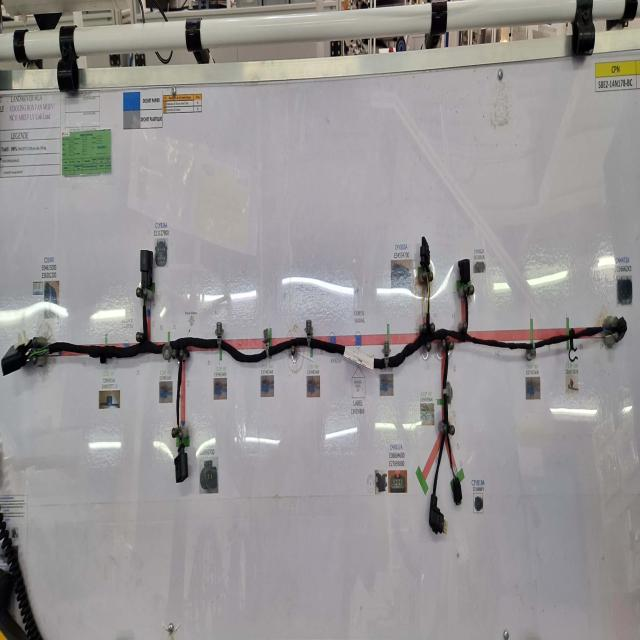Clip: (568, 328, 578, 364), (262, 328, 271, 360), (382, 338, 391, 368), (304, 319, 313, 348), (215, 323, 224, 349), (443, 380, 453, 402), (162, 341, 172, 362), (526, 342, 536, 360), (100, 345, 108, 366)
Connector: (1, 338, 32, 377), (428, 494, 448, 535), (174, 443, 188, 483), (140, 250, 153, 289), (420, 236, 430, 272), (458, 259, 471, 285), (453, 478, 463, 506), (618, 316, 627, 342)
Gape: (423, 267, 433, 314), (26, 345, 52, 361), (603, 324, 618, 337), (450, 468, 458, 480), (142, 289, 147, 307)
MHEV_N11_Cable: (50, 297, 603, 499)
